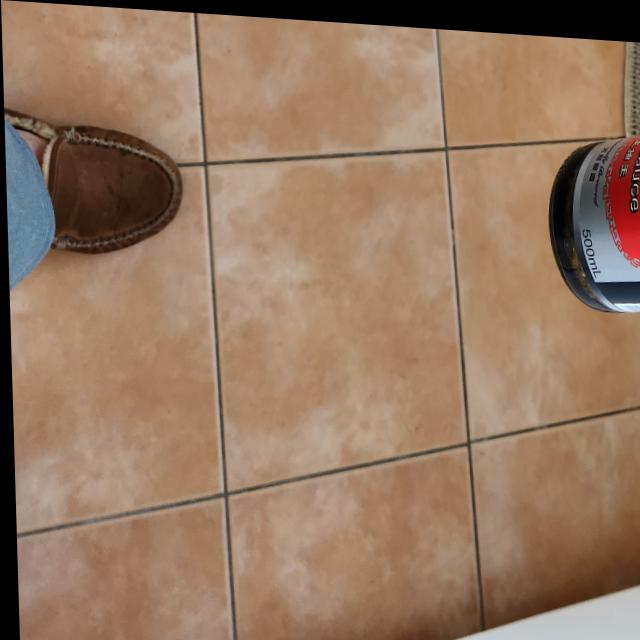soy sauce: (545, 91, 640, 307)
